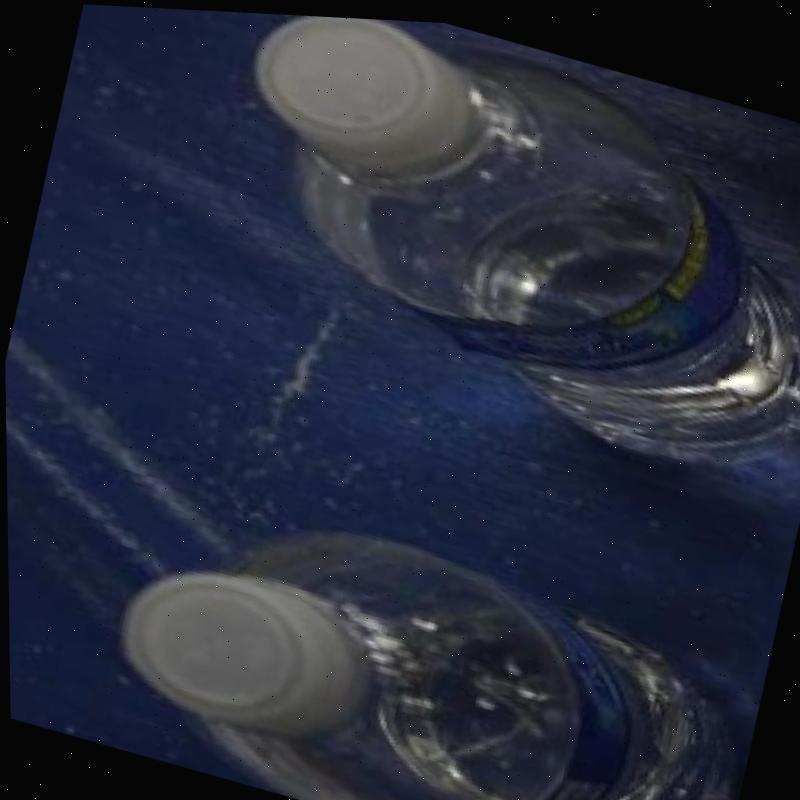botella: (189, 8, 800, 494), (86, 466, 756, 800)
